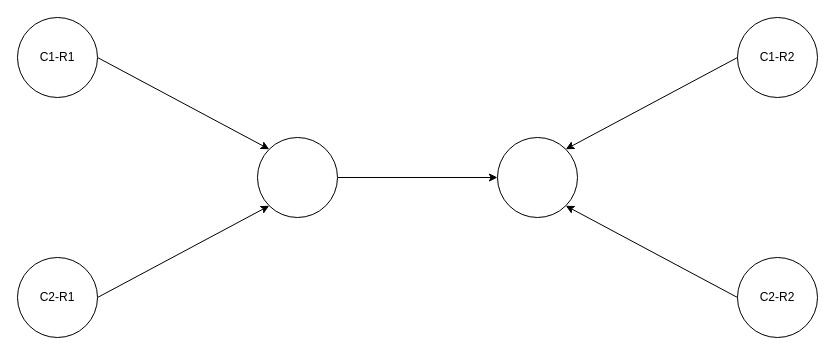
Some shapes in this 835 by 355 pixel diagram are drawn without their labels. The box of each missing label's shape, as (x1, y1, x2, y2) in pixels:
PE-1: (256, 136, 338, 218)
PE-2: (496, 136, 578, 218)
